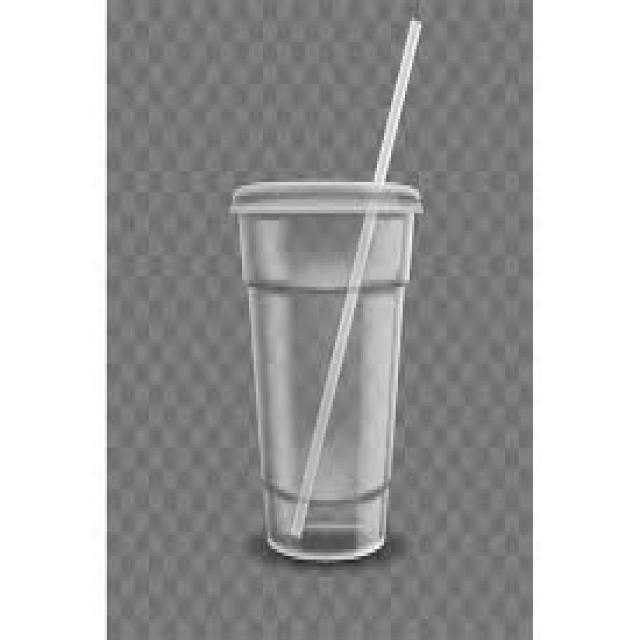bottle: (231, 182, 421, 561)
